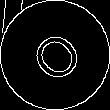O_SE: (22, 22, 88, 88)
